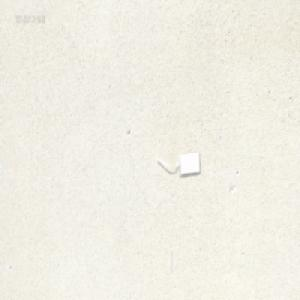LuggageTag: (155, 149, 200, 175)
